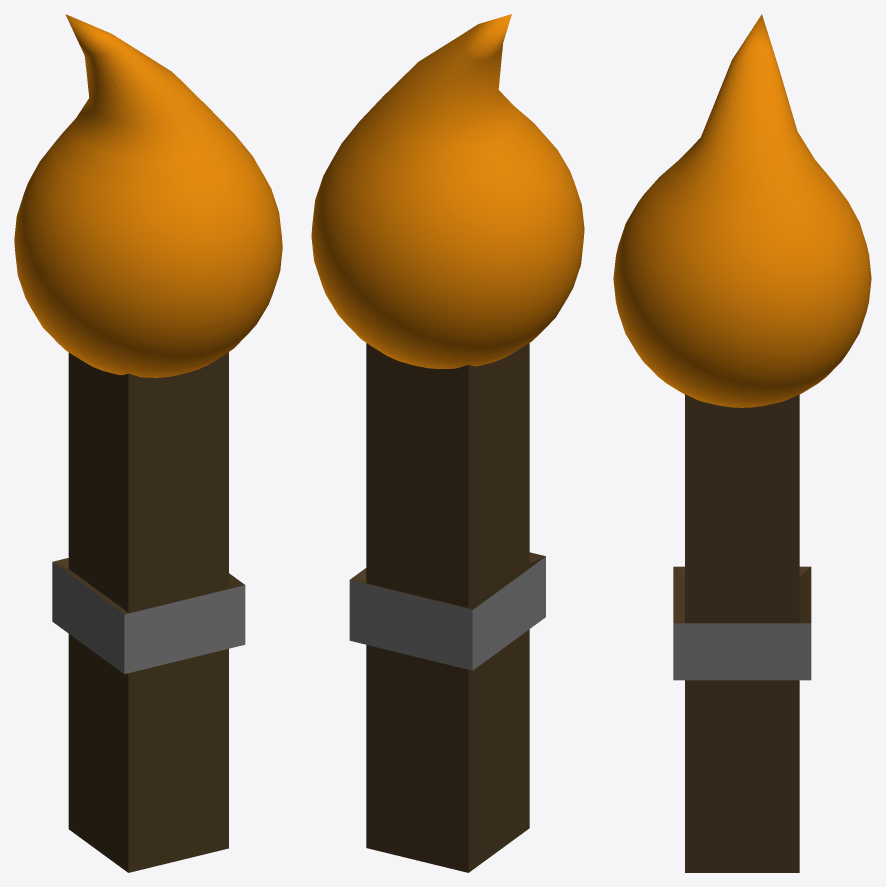
File: Torch.fbx
The picture shows the model from 3 angles, left to right: view 1: azimuth 30°, elevation 25°; view 2: azimuth 150°, elevation 25°; view 3: azimuth 270°, elevation 25°; orthographic projection. The views are drawn at different scales.
Visible parts, largest first — view 1: Cube, Sphere; view 2: Cube, Sphere; view 3: Sphere, Cube.
Part boxes in pixels (<box>): Cube: <box>52,352,245,872</box>; Sphere: <box>14,14,282,377</box>; Cube: <box>349,343,545,872</box>; Sphere: <box>311,14,584,368</box>; Sphere: <box>613,14,871,407</box>; Cube: <box>673,394,811,872</box>.
Bounding box in the file's own units: 34.99 × 120 × 35.02.
